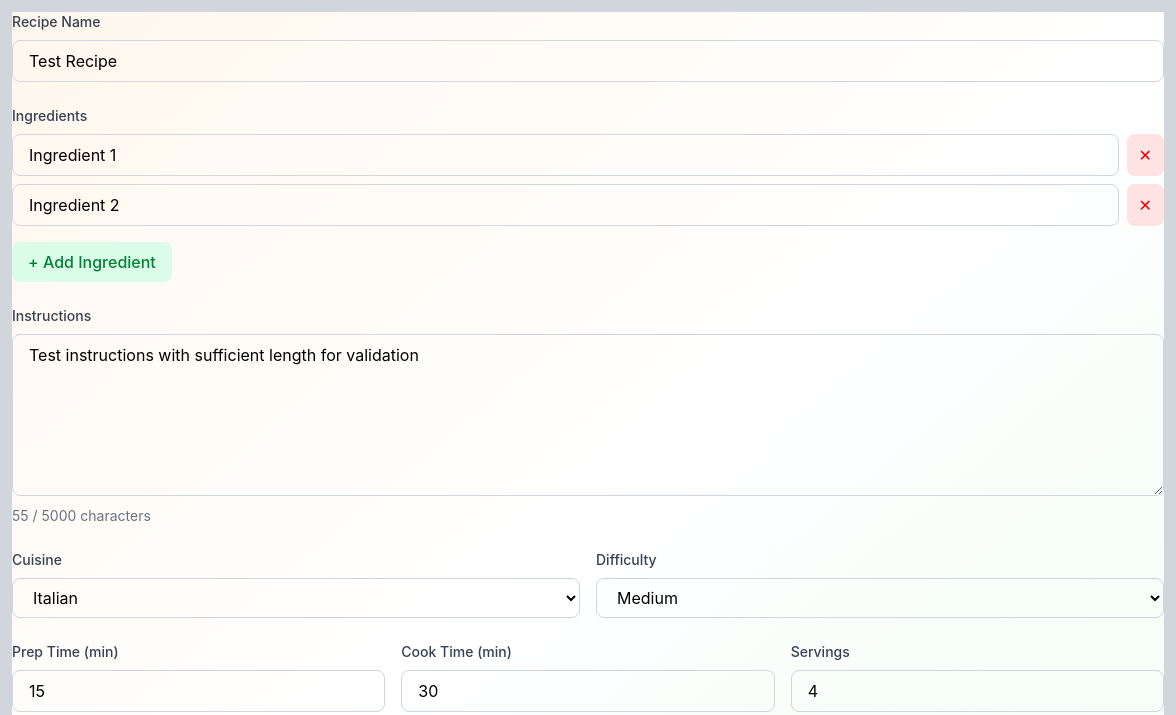
Test case: RecipeForm › removes ingredient when remove button is clicked
Check: the number of fields with placeholder "Ingredient 1" is 2, box [12, 134, 1119, 176]; [12, 184, 1119, 226]
Click the 1st button "✕" at point(1145, 155), box [1127, 134, 1164, 176]
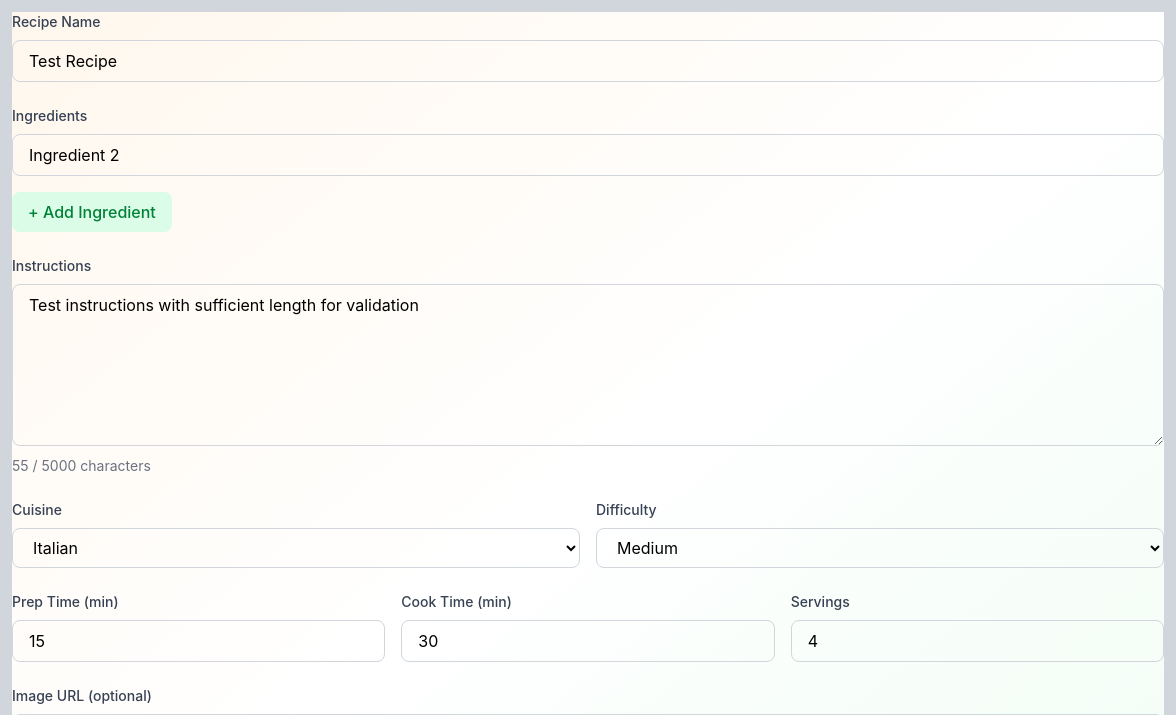
Check: the number of fields with placeholder "Ingredient 1" is 1, box [12, 134, 1164, 176]
